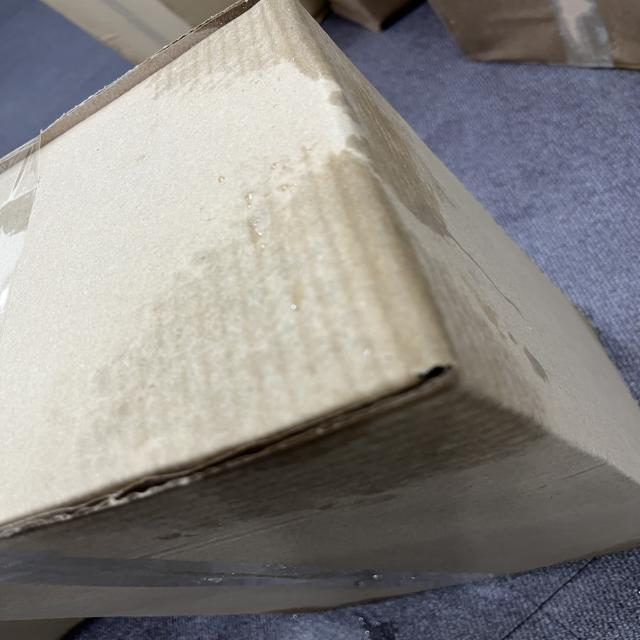wet: (122, 155, 550, 519)
